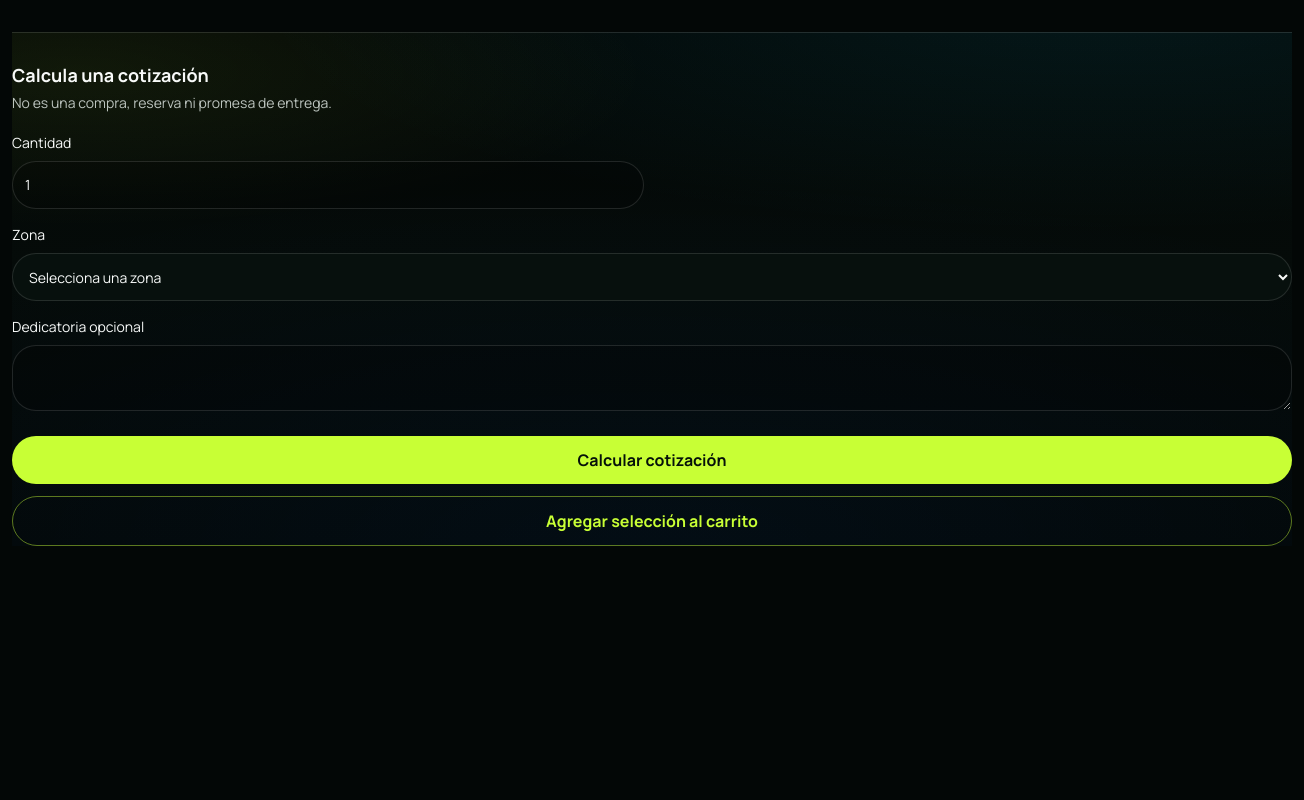
Test: quote calculator › shows loading and a server subtotal
Later steps or results of the test are not shown.
Click the button "Calcular cotización" at (652, 460), box [12, 436, 1292, 484]
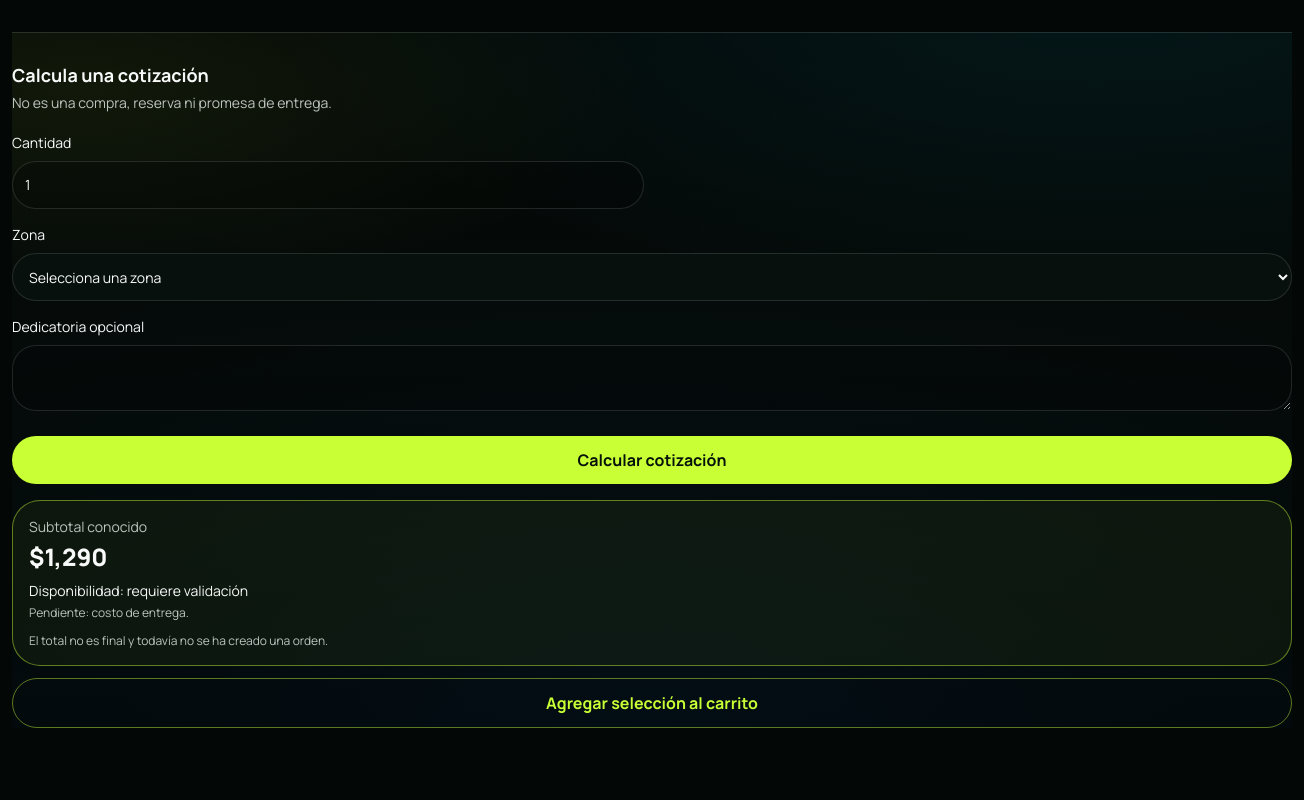
expect the text "$1,290" is shown: met, box [29, 540, 108, 573]
